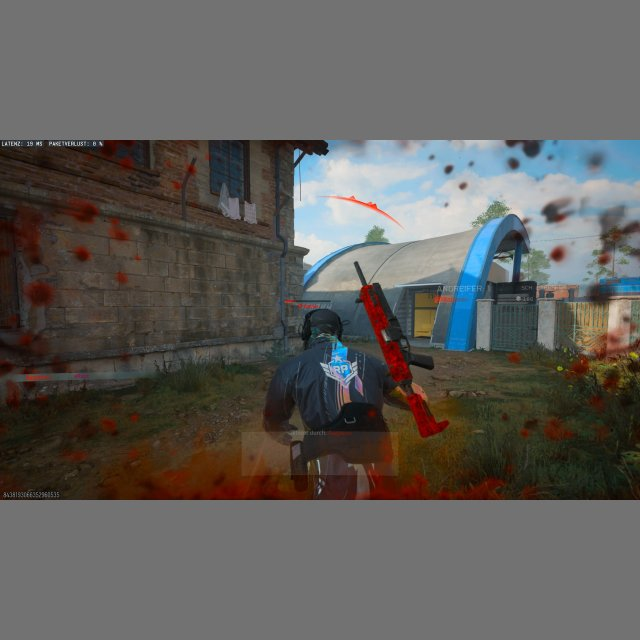head: (300, 308, 344, 346)
player: (262, 307, 399, 499)
